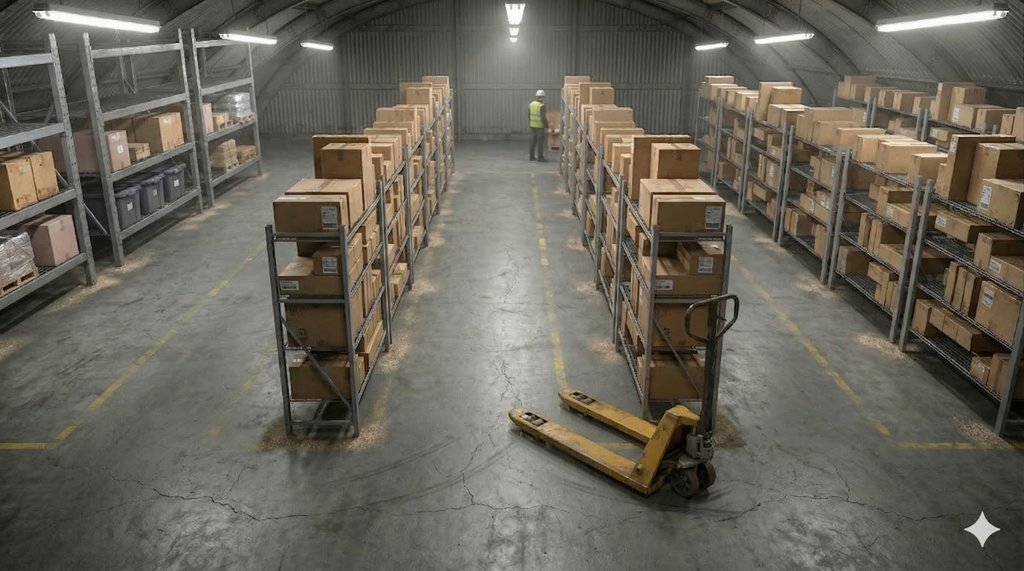empty_shelf: (5, 31, 282, 149)
obstacle: (423, 291, 759, 518)
pallet: (1, 264, 42, 300)
person: (517, 83, 568, 166)
safety_helmet: (527, 87, 552, 102)
safety_vest: (524, 101, 553, 132)
